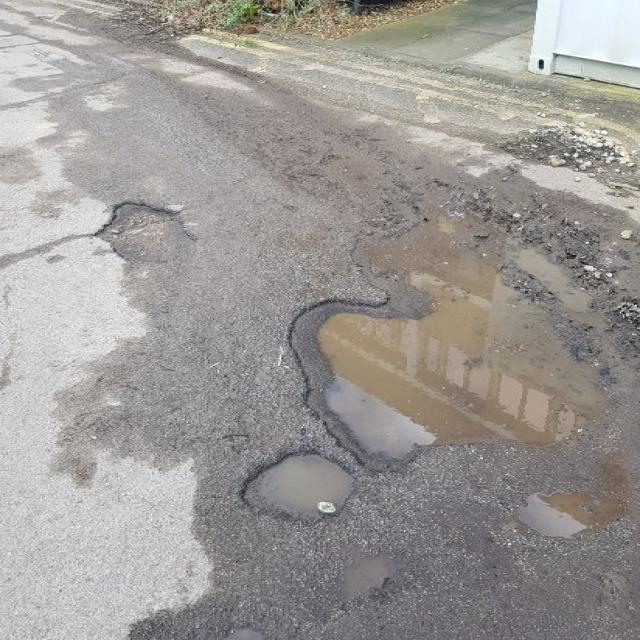Pothole: (276, 209, 615, 483), (233, 449, 367, 529), (96, 199, 202, 265)
